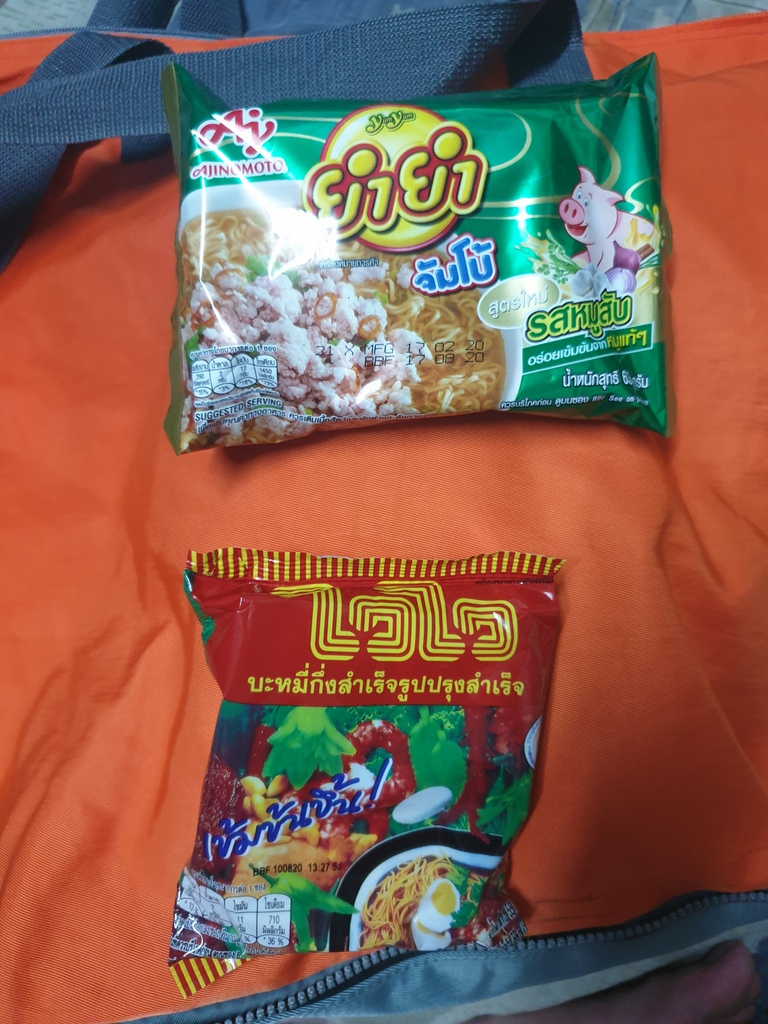waiwai: (178, 550, 559, 961)
yumyum: (155, 73, 682, 444)
